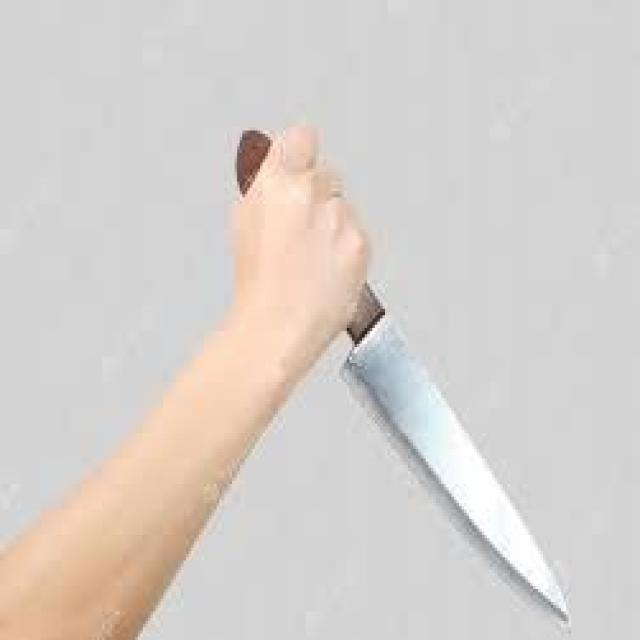faca: (219, 109, 574, 630)
